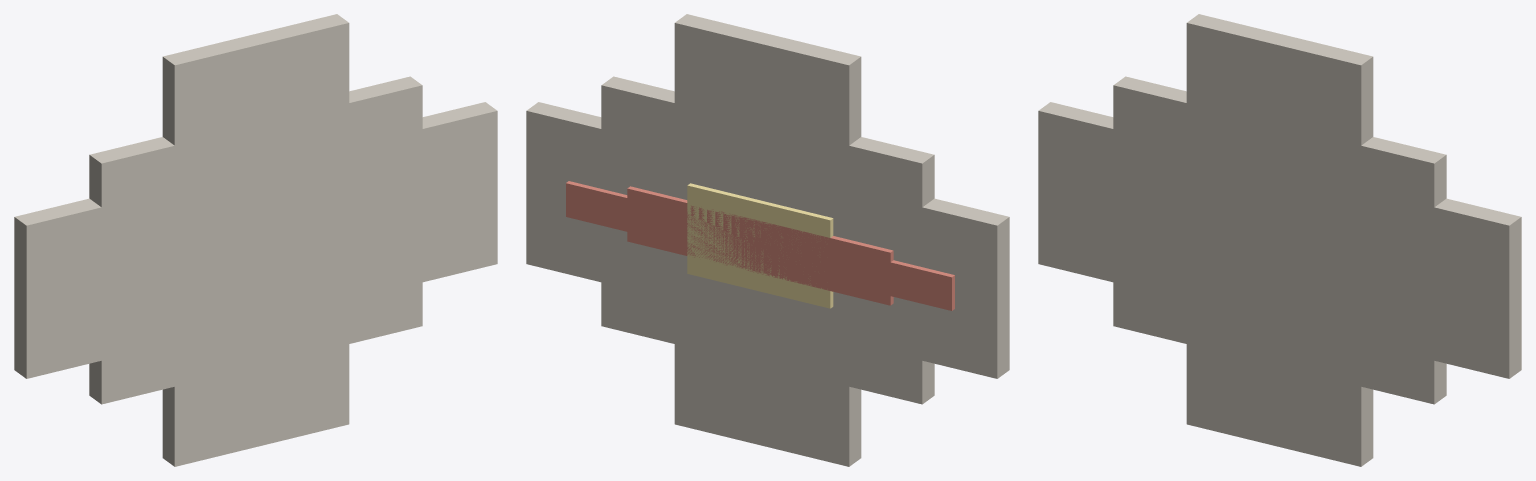
File: MOD_BAKERY_SIGN_STANDARD_001_LOD_GAMEPLAY.glb
The picture shows the model from 3 angles, left to right: view 1: azimuth 30°, elevation 25°; view 2: azimuth 150°, elevation 25°; view 3: azimuth 330°, elevation 25°; orthographic projection.
Parts seen in each view (by area): view 1: MOD_BAKERY_SIGN_STANDARD_001_FASCIA_BAKERY_SIGN_GAMEPLAY_PAN, MOD_BAKERY_SIGN_STANDARD_001_NARROW_VERTICAL_BAKERY_SIGN_GAM, MOD_BAKERY_SIGN_STANDARD_001_COMPACT_CORNER_BAKERY_SIGN_GAME, MOD_BAKERY_SIGN_STANDARD_001_HANGING_BAKERY_SIGN_GAMEPLAY_PA; view 2: MOD_BAKERY_SIGN_STANDARD_001_COMPACT_CORNER_BAKERY_SIGN_GAME (×2), MOD_BAKERY_SIGN_STANDARD_001_NARROW_VERTICAL_BAKERY_SIGN_GAM (×2), MOD_BAKERY_SIGN_STANDARD_001_FASCIA_BAKERY_SIGN_GAMEPLAY_PAN, MOD_BAKERY_SIGN_STANDARD_001_HANGING_BAKERY_SIGN_GAMEPLAY_ST, MOD_BAKERY_SIGN_STANDARD_001_FASCIA_BAKERY_SIGN_GAMEPLAY_STR; view 3: MOD_BAKERY_SIGN_STANDARD_001_COMPACT_CORNER_BAKERY_SIGN_GAME, MOD_BAKERY_SIGN_STANDARD_001_FASCIA_BAKERY_SIGN_GAMEPLAY_PAN, MOD_BAKERY_SIGN_STANDARD_001_NARROW_VERTICAL_BAKERY_SIGN_GAM.
Boxes of the visible parts, left/top/right/bottom form: MOD_BAKERY_SIGN_STANDARD_001_FASCIA_BAKERY_SIGN_GAMEPLAY_PAN: left=14, top=102, right=497, bottom=378; MOD_BAKERY_SIGN_STANDARD_001_NARROW_VERTICAL_BAKERY_SIGN_GAM: left=162, top=14, right=349, bottom=466; MOD_BAKERY_SIGN_STANDARD_001_COMPACT_CORNER_BAKERY_SIGN_GAME: left=89, top=76, right=422, bottom=404; MOD_BAKERY_SIGN_STANDARD_001_HANGING_BAKERY_SIGN_GAMEPLAY_PA: left=129, top=104, right=394, bottom=387; MOD_BAKERY_SIGN_STANDARD_001_COMPACT_CORNER_BAKERY_SIGN_GAME (×2): left=601, top=76, right=934, bottom=404; MOD_BAKERY_SIGN_STANDARD_001_NARROW_VERTICAL_BAKERY_SIGN_GAM (×2): left=674, top=14, right=861, bottom=466; MOD_BAKERY_SIGN_STANDARD_001_FASCIA_BAKERY_SIGN_GAMEPLAY_PAN: left=526, top=102, right=1009, bottom=378; MOD_BAKERY_SIGN_STANDARD_001_HANGING_BAKERY_SIGN_GAMEPLAY_ST: left=650, top=196, right=867, bottom=297; MOD_BAKERY_SIGN_STANDARD_001_FASCIA_BAKERY_SIGN_GAMEPLAY_STR: left=566, top=181, right=954, bottom=310; MOD_BAKERY_SIGN_STANDARD_001_COMPACT_CORNER_BAKERY_SIGN_GAME: left=1113, top=76, right=1446, bottom=404; MOD_BAKERY_SIGN_STANDARD_001_FASCIA_BAKERY_SIGN_GAMEPLAY_PAN: left=1038, top=102, right=1521, bottom=378; MOD_BAKERY_SIGN_STANDARD_001_NARROW_VERTICAL_BAKERY_SIGN_GAM: left=1186, top=14, right=1373, bottom=466.
Size of the model in its own units: 2.7 by 2.2 by 0.15.
